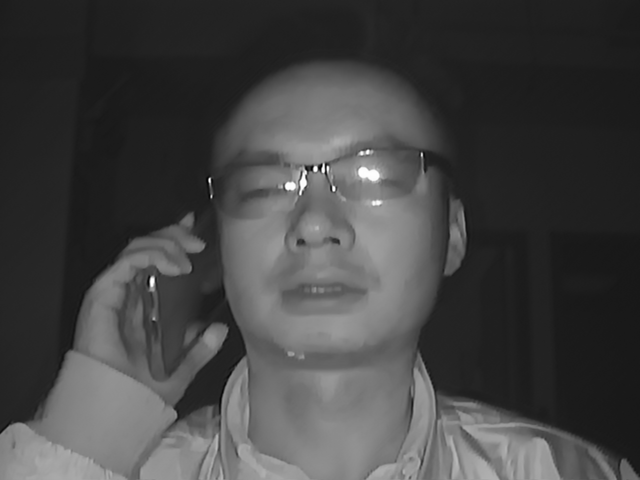hand: (87, 221, 211, 391)
